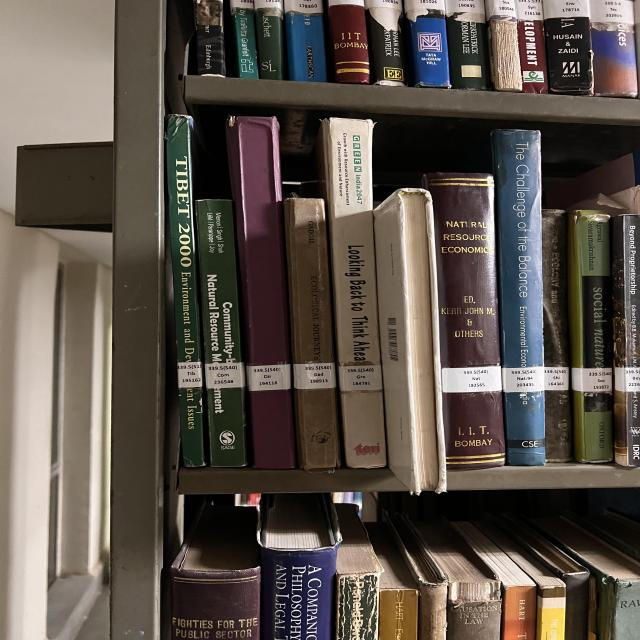Book: (227, 116, 297, 469), (423, 172, 505, 470), (322, 118, 387, 469), (492, 130, 545, 465), (283, 198, 340, 471), (165, 114, 205, 468), (195, 200, 247, 468), (568, 210, 613, 462), (542, 209, 572, 461)
Label: (442, 366, 502, 392), (293, 362, 337, 390), (247, 364, 290, 391), (338, 365, 382, 391), (502, 366, 545, 392), (205, 362, 245, 389), (572, 368, 612, 392), (177, 361, 203, 388), (543, 366, 568, 391)
